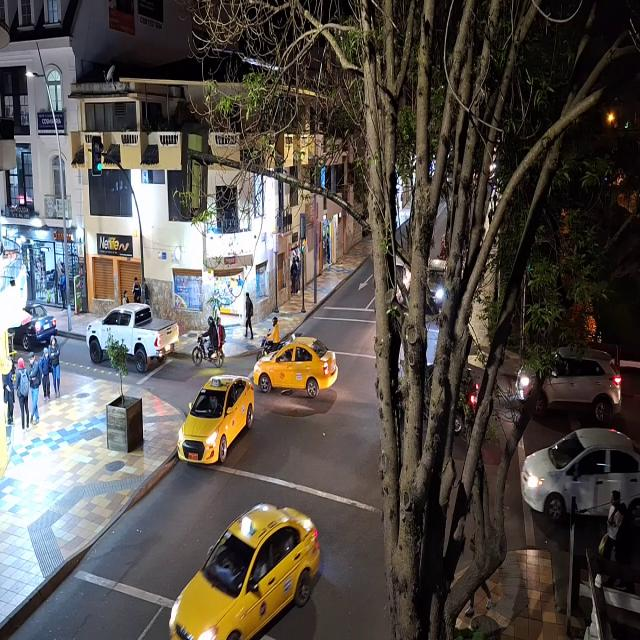CMT: (88, 306, 180, 373)
MOTORCYCLE: (192, 335, 226, 369), (256, 338, 283, 362)
SED: (168, 508, 310, 640), (522, 429, 638, 512), (180, 378, 249, 463), (255, 339, 337, 394)
SUV: (518, 347, 620, 414)
